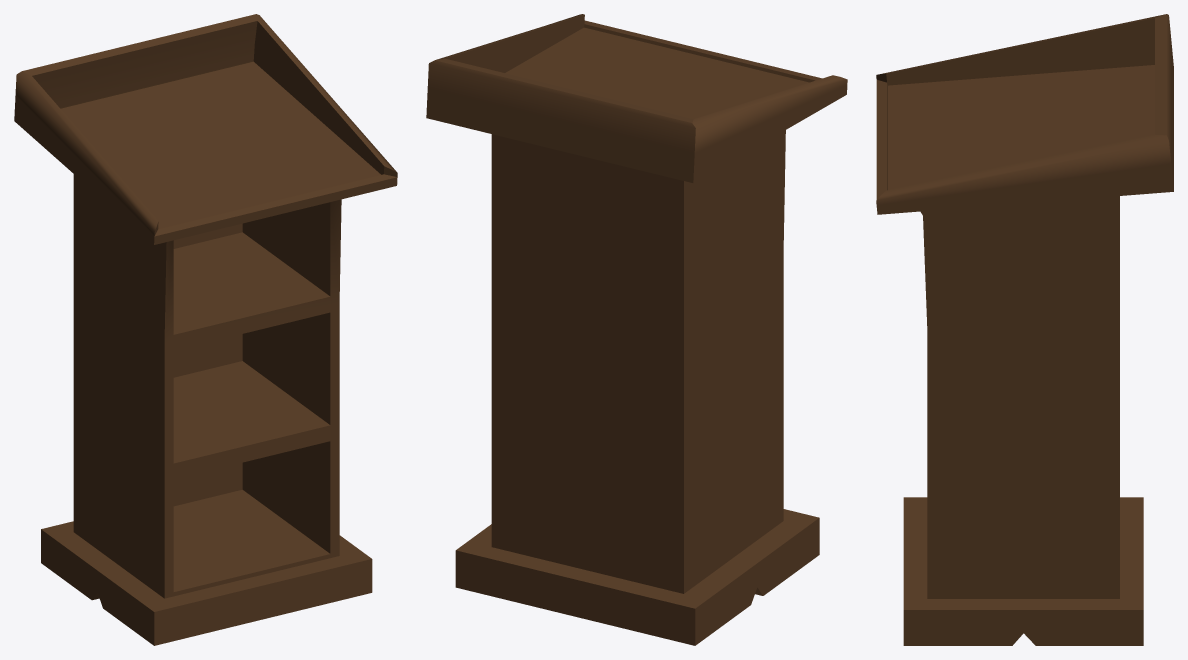
File: Podium.fbx
3 views of the same model, side by side, from view 1: azimuth 30°, elevation 25°; view 2: azimuth 150°, elevation 25°; view 3: azimuth 270°, elevation 25° (orthographic). The views are drawn at different scales.
Visible parts, largest first — view 1: Posium; view 2: Posium; view 3: Posium.
Part boxes in pixels (x1,y1,x2,y2): Posium: (14,14,397,645); Posium: (426,14,847,645); Posium: (876,14,1173,645).
Bounding box in the file's own units: 109 × 208 × 109.
